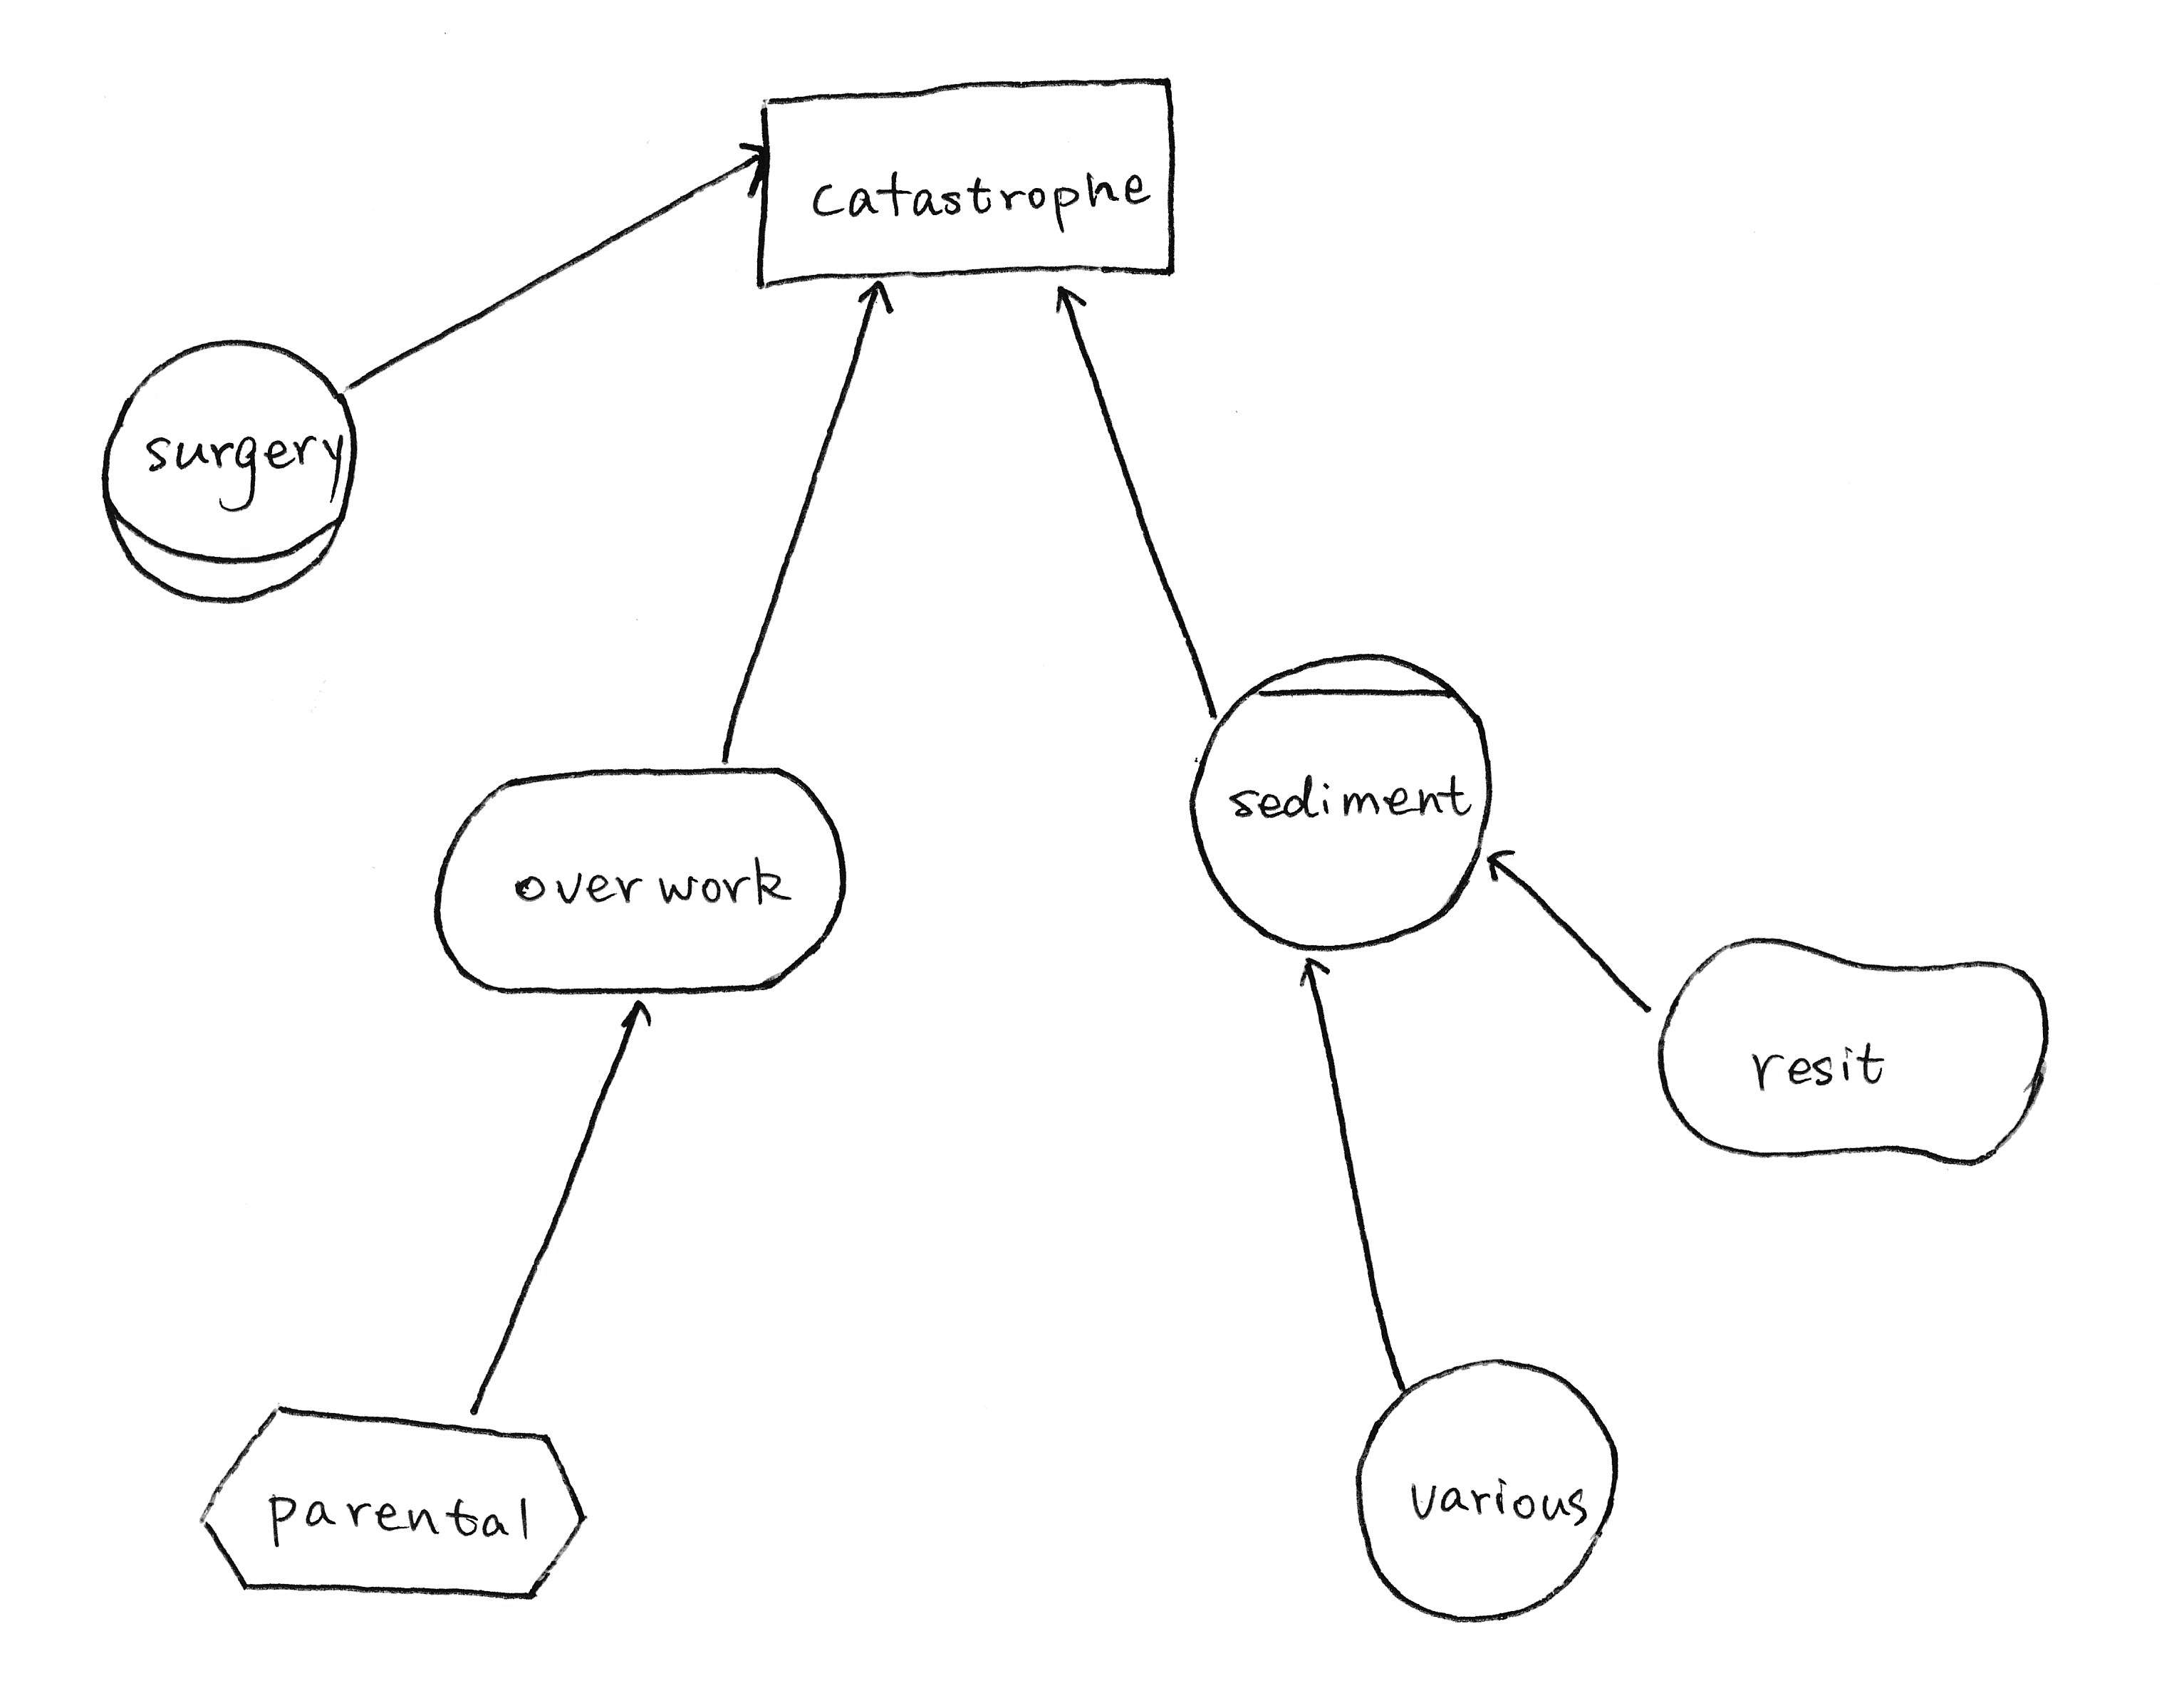actor: (1335, 1335, 1633, 1640)
agent: (1172, 627, 1498, 973)
arrow: (720, 115, 785, 214), (1028, 266, 1115, 337), (590, 973, 675, 1044), (1266, 943, 1358, 1001), (837, 262, 911, 333), (1464, 828, 1537, 897)
goal: (411, 752, 872, 1010)
quality: (1640, 915, 2067, 1182)
resource: (732, 58, 1205, 310)
role: (82, 317, 374, 624)
task: (177, 1386, 610, 1613)
